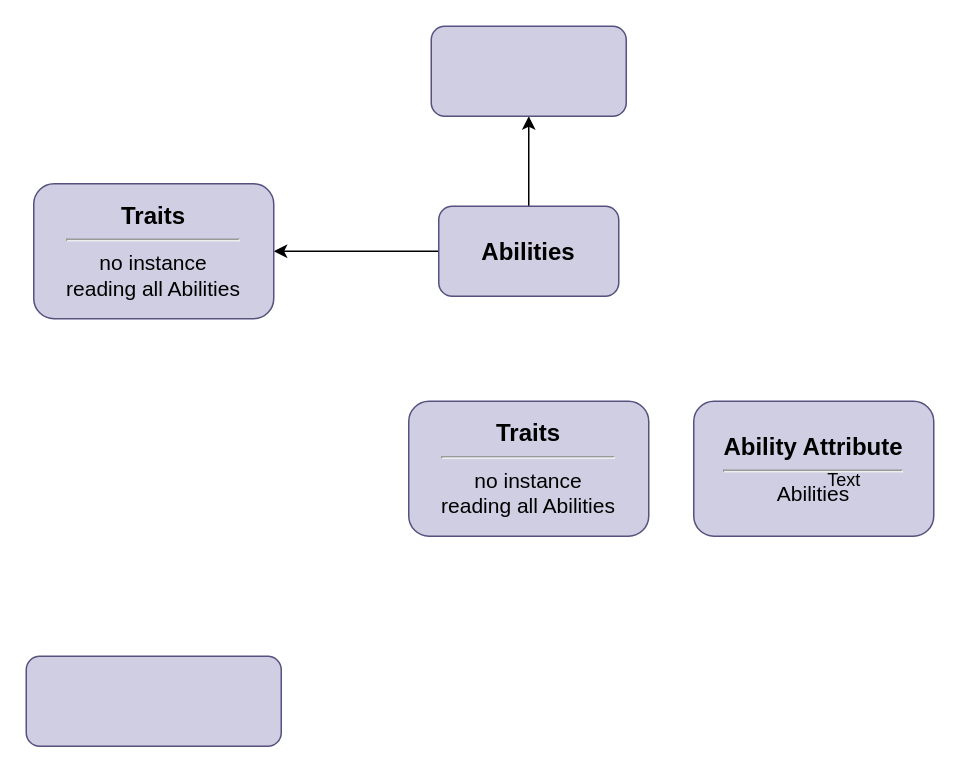
This 960x773 diagram has some shape labels left out. Each missing label, with the centre of its shape:
"Abilities config" belongs at point 528,70.
"Folder Reading Required (IAbility)" belongs at point 153,700.
